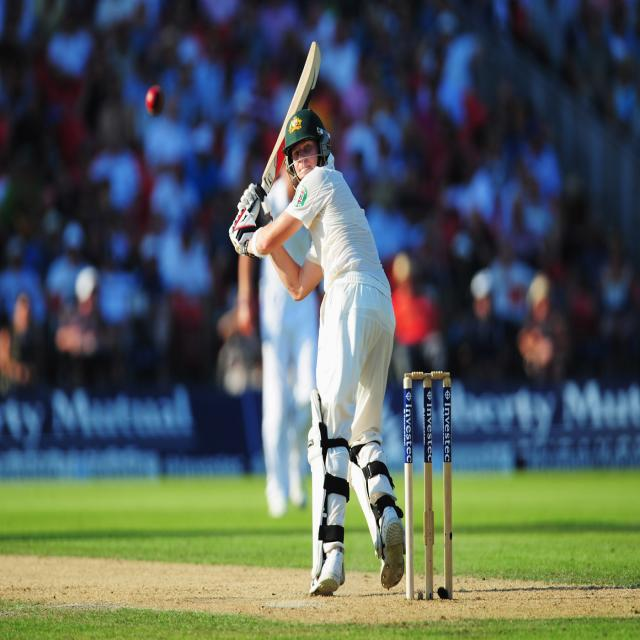ball: (145, 81, 166, 122)
stump: (403, 372, 455, 602)
